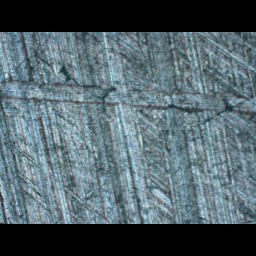d: (0, 53, 255, 119), (0, 138, 112, 223)
